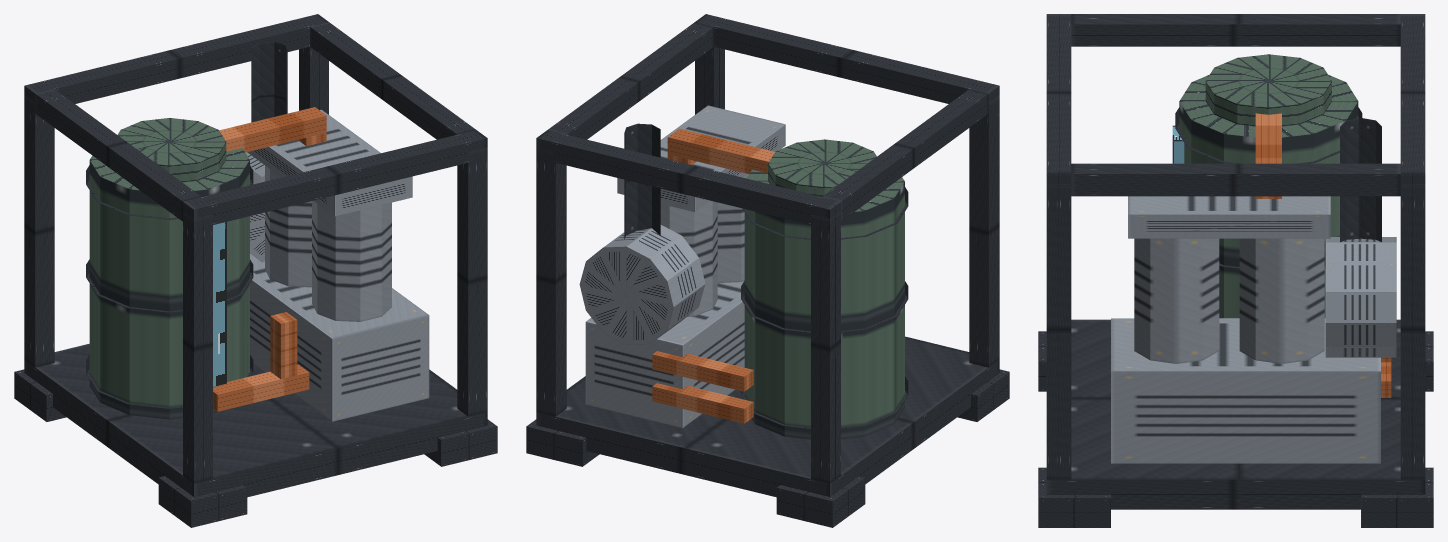
Rendered from biogas_generator.obj.
3 views of the same model, side by side, from view 1: azimuth 30°, elevation 25°; view 2: azimuth 150°, elevation 25°; view 3: azimuth 270°, elevation 25° (orthographic). The views are drawn at different scales.
Parts seen in each view (by area): view 1: industrial_base, turbine_assembly, biogas_tank, copper_piping, glass, tank_bands; view 2: industrial_base, turbine_assembly, biogas_tank, copper_piping, tank_bands; view 3: industrial_base, turbine_assembly, biogas_tank, copper_piping, tank_bands.
Boxes of the visible parts, box(x1,y1,x2,y2) form: industrial_base: box(14, 14, 497, 527); turbine_assembly: box(245, 41, 429, 421); biogas_tank: box(89, 118, 249, 419); copper_piping: box(213, 107, 326, 411); glass: box(213, 222, 226, 386); tank_bands: box(86, 165, 253, 408); industrial_base: box(526, 14, 1009, 527); turbine_assembly: box(579, 105, 785, 428); biogas_tank: box(744, 139, 904, 439); copper_piping: box(652, 128, 774, 423); tank_bands: box(741, 187, 908, 428); industrial_base: box(1038, 14, 1433, 527); turbine_assembly: box(1111, 118, 1396, 463); biogas_tank: box(1179, 54, 1358, 318); copper_piping: box(1255, 113, 1391, 397); tank_bands: box(1175, 107, 1362, 268).
Bounding box in the file's own units: 3 × 2.98 × 3.
